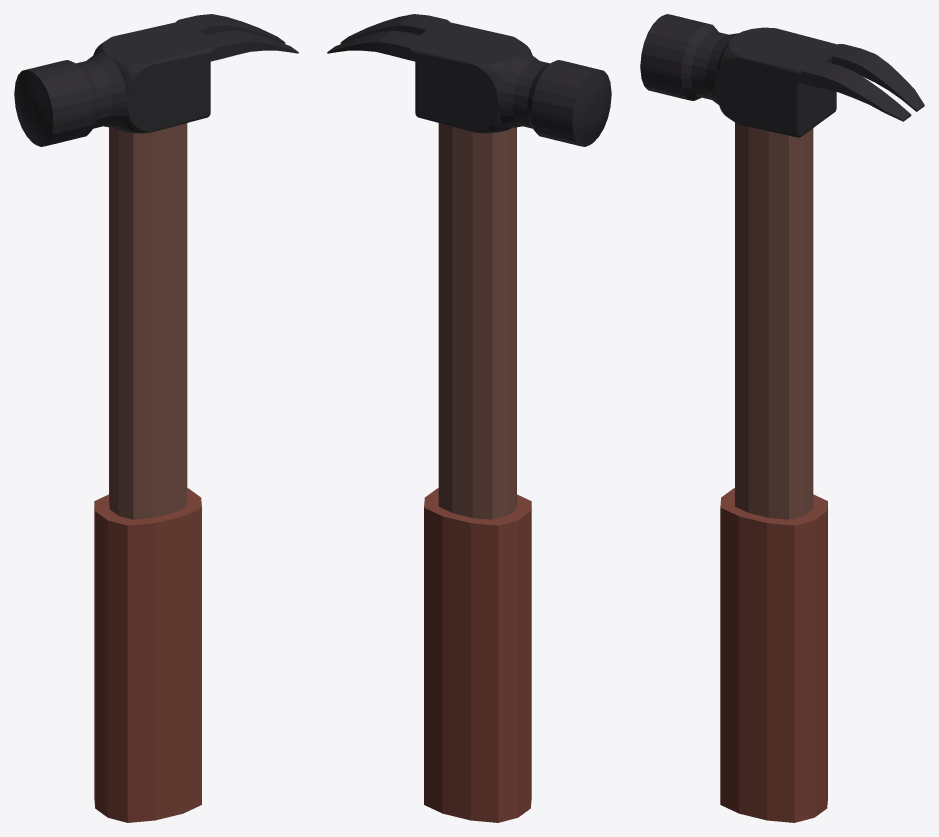
The model's file is Small_Hammer.fbx.
3 renders of one model, left to right at view 1: azimuth 30°, elevation 25°; view 2: azimuth 150°, elevation 25°; view 3: azimuth 330°, elevation 25°, orthographic.
Visible parts, largest first — view 1: Cube; view 2: Cube; view 3: Cube.
Boxes of the visible parts, x1,y1,x2,y2 form: Cube: (14, 14, 298, 822); Cube: (327, 14, 611, 822); Cube: (640, 14, 924, 822).
Size of the model in its own units: 89.04 by 249 by 25.05.
